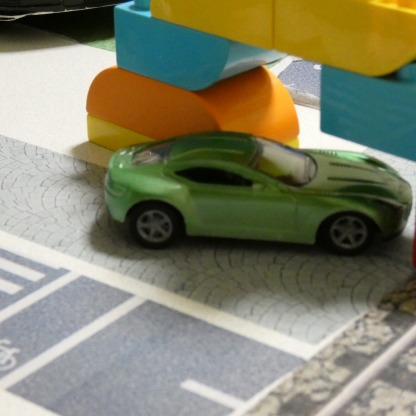car: (102, 130, 412, 254)
